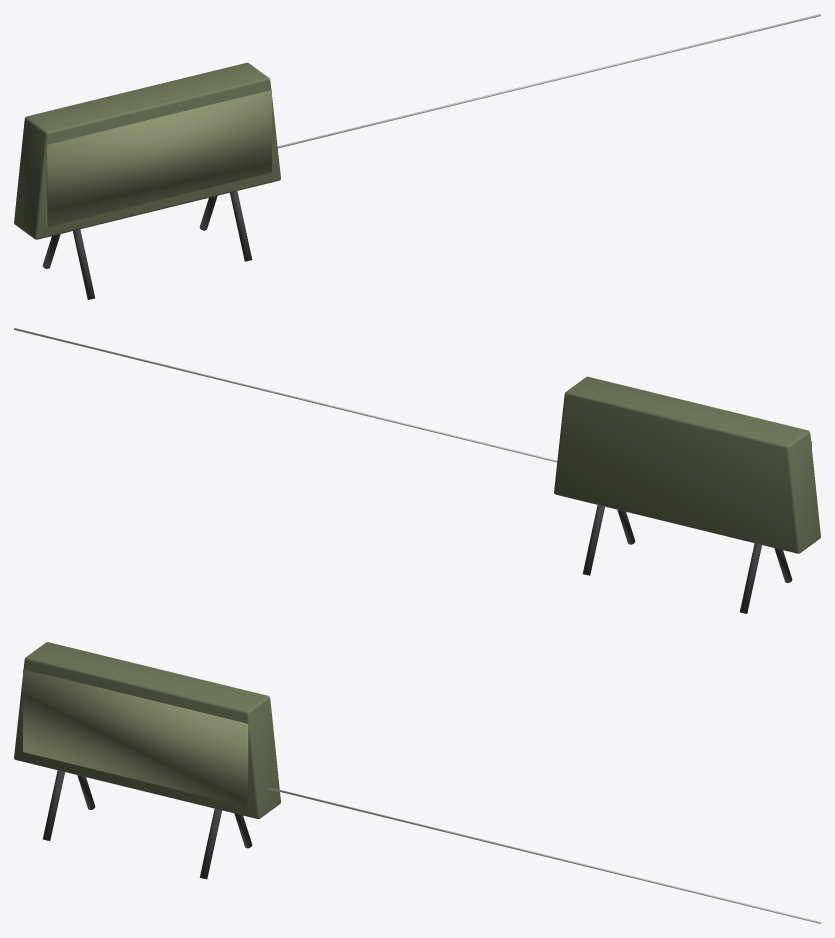
The model's file is SM_TripMine.glb.
The picture shows the model from 3 angles, top to bottom: view 1: azimuth 30°, elevation 25°; view 2: azimuth 150°, elevation 25°; view 3: azimuth 330°, elevation 25°; orthographic projection.
Visible parts, largest first — view 1: SM_TripMine; view 2: SM_TripMine; view 3: SM_TripMine.
Part boxes in pixels (<box>): SM_TripMine: <box>14,14,820,299</box>; SM_TripMine: <box>14,328,820,613</box>; SM_TripMine: <box>14,642,820,923</box>.
Size of the model in its own units: 0.7098 by 0.143 by 0.075.
